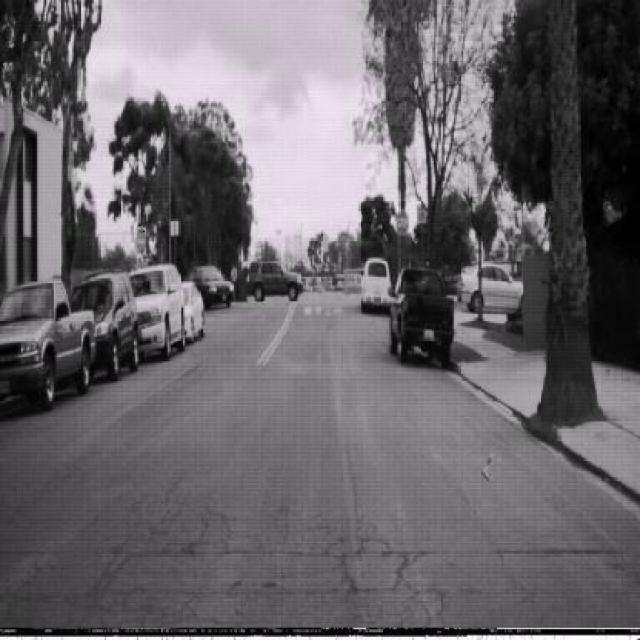doNotEnter: (136, 224, 146, 254)
stop: (396, 206, 410, 236)
